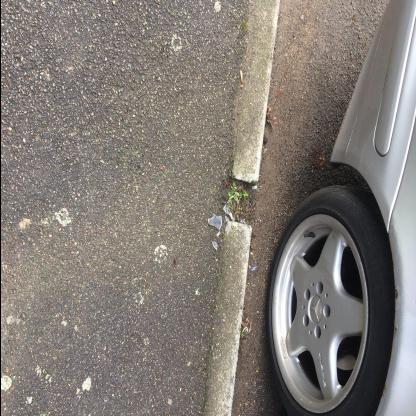plastik: (207, 214, 221, 230)
